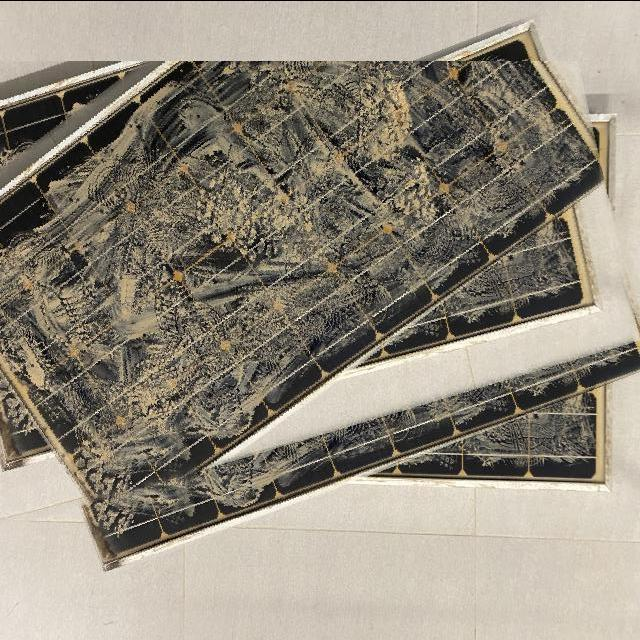Dusty: (0, 56, 607, 500), (83, 340, 640, 545), (365, 209, 584, 357), (389, 385, 600, 467)
